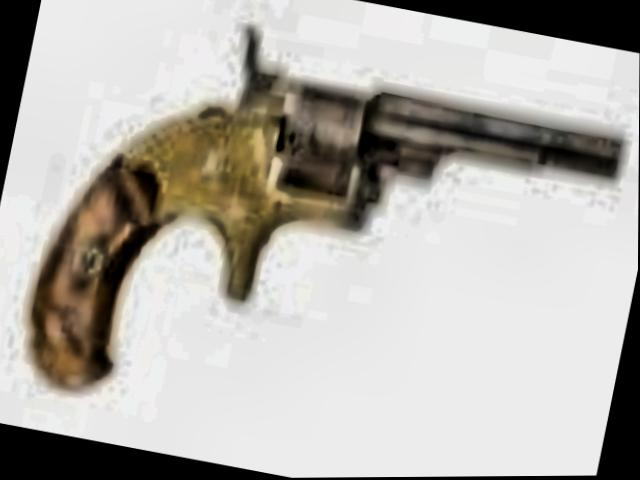pistol: (17, 0, 633, 480)
